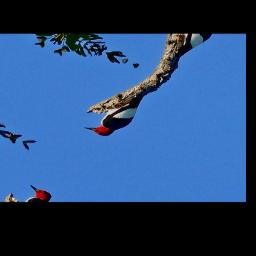Woodpecker: (76, 75, 168, 148)
